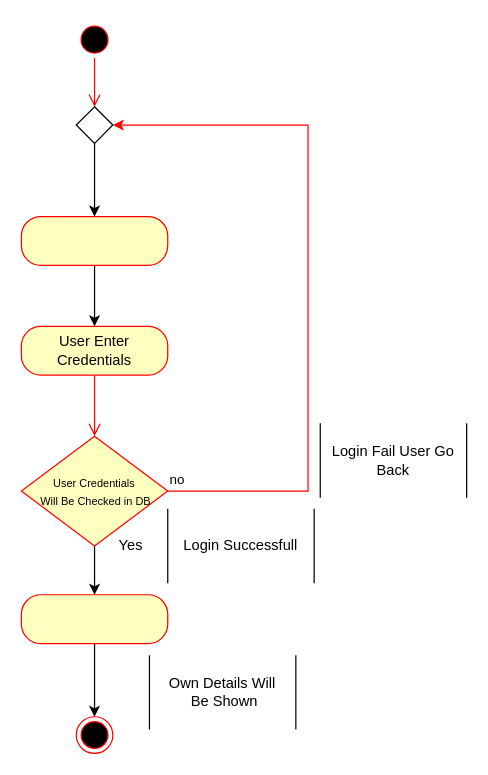
Some shapes in this 488 by 775 pixel diagram are drawn without their labels. The centre of each missing label's shape, as x and y in pixels:
"Click On Login" belongs at (x=94, y=240).
"Click On View Own Details" belongs at (x=94, y=619).
